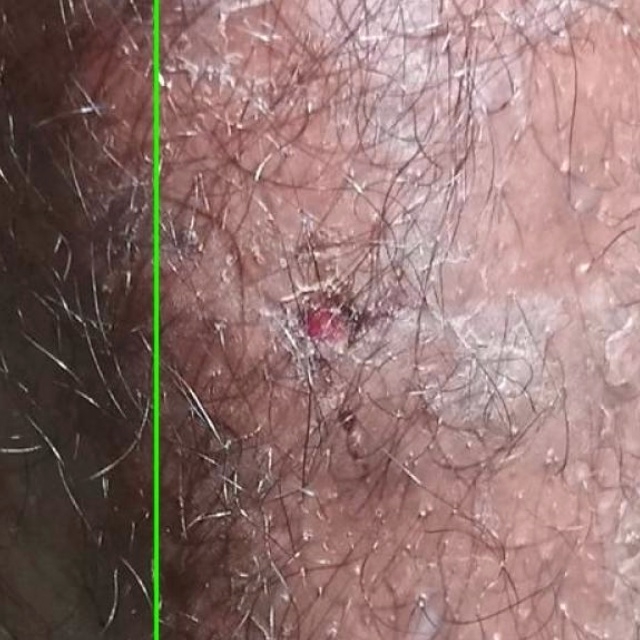Eczema: (0, 0, 155, 639)
